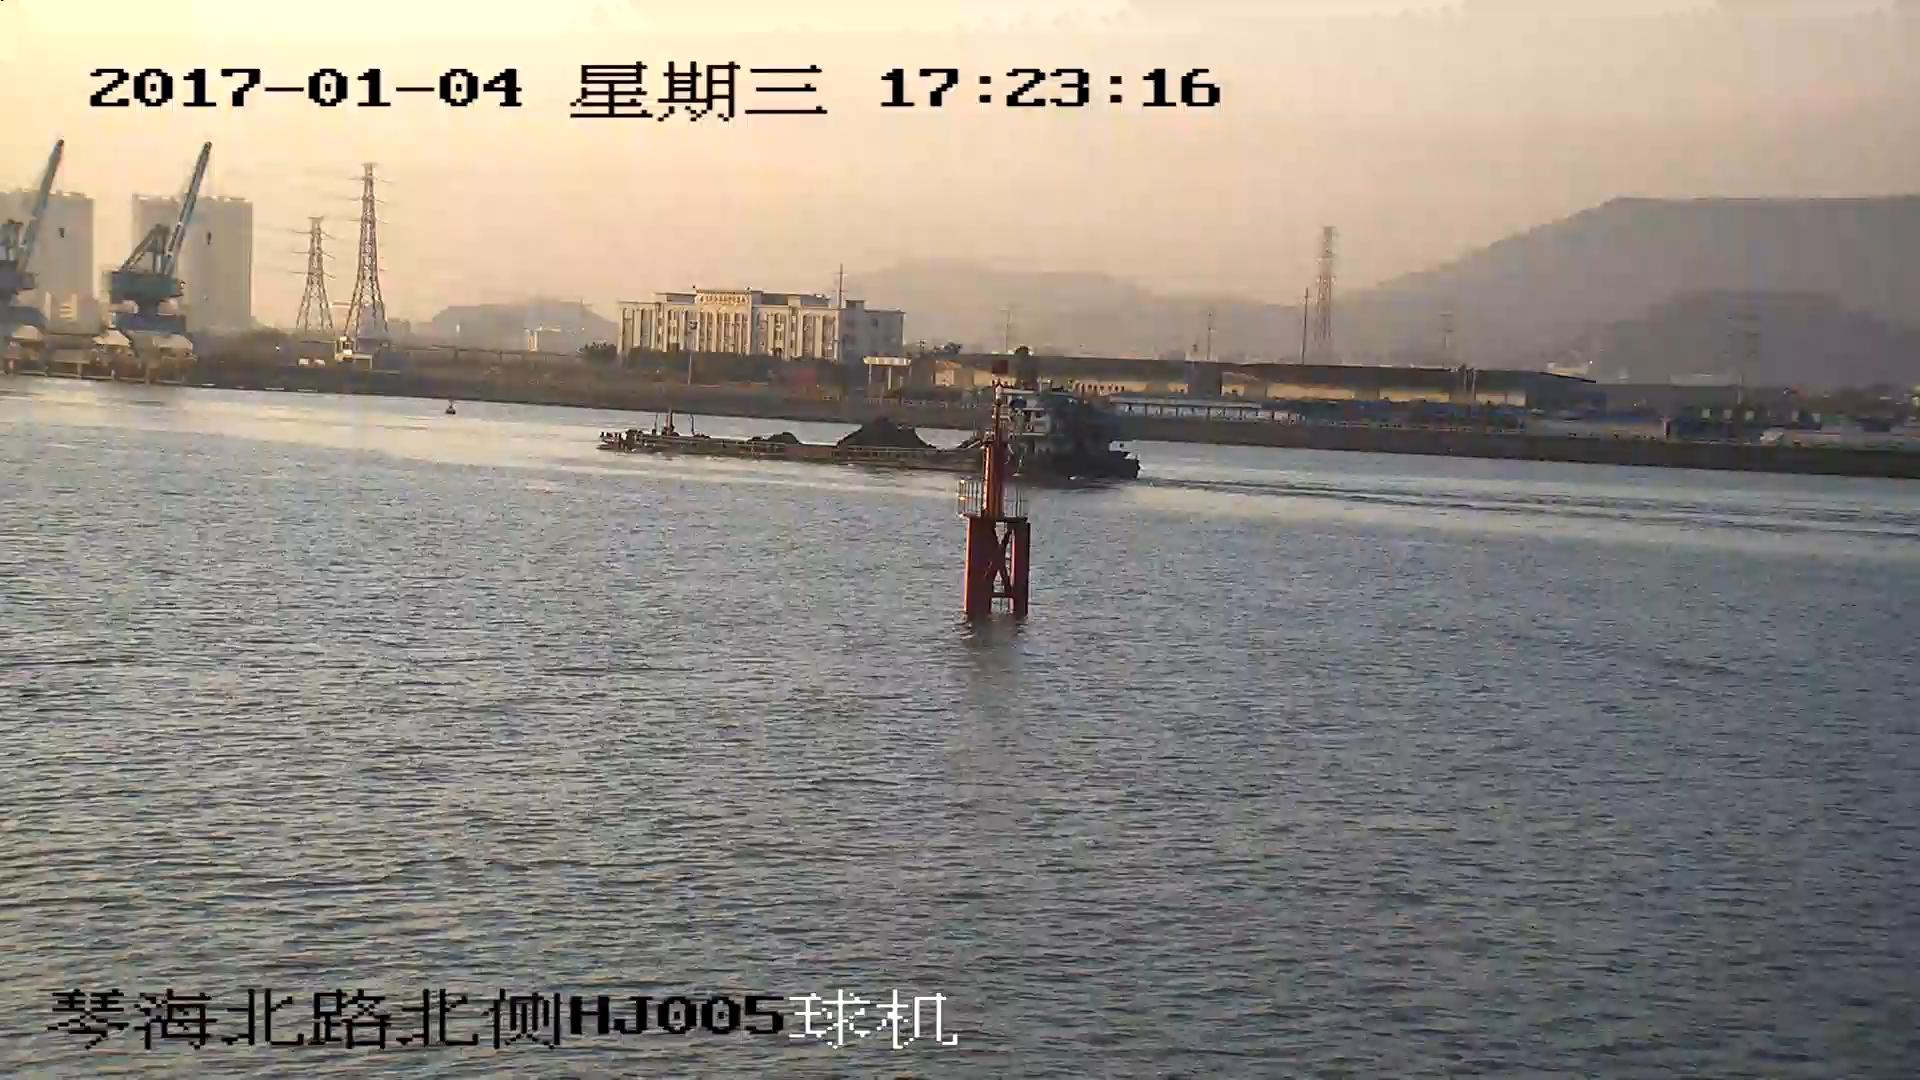ore carrier: (600, 388, 1137, 483)
